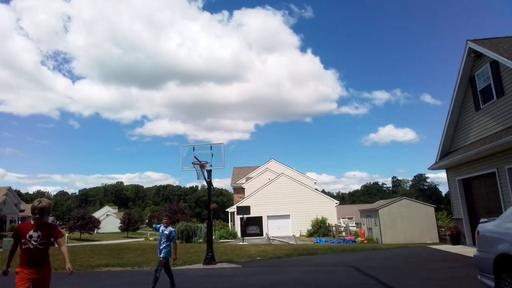ball: (210, 203, 220, 211)
human: (0, 197, 72, 288), (144, 213, 178, 288)
rim: (192, 160, 210, 180)
